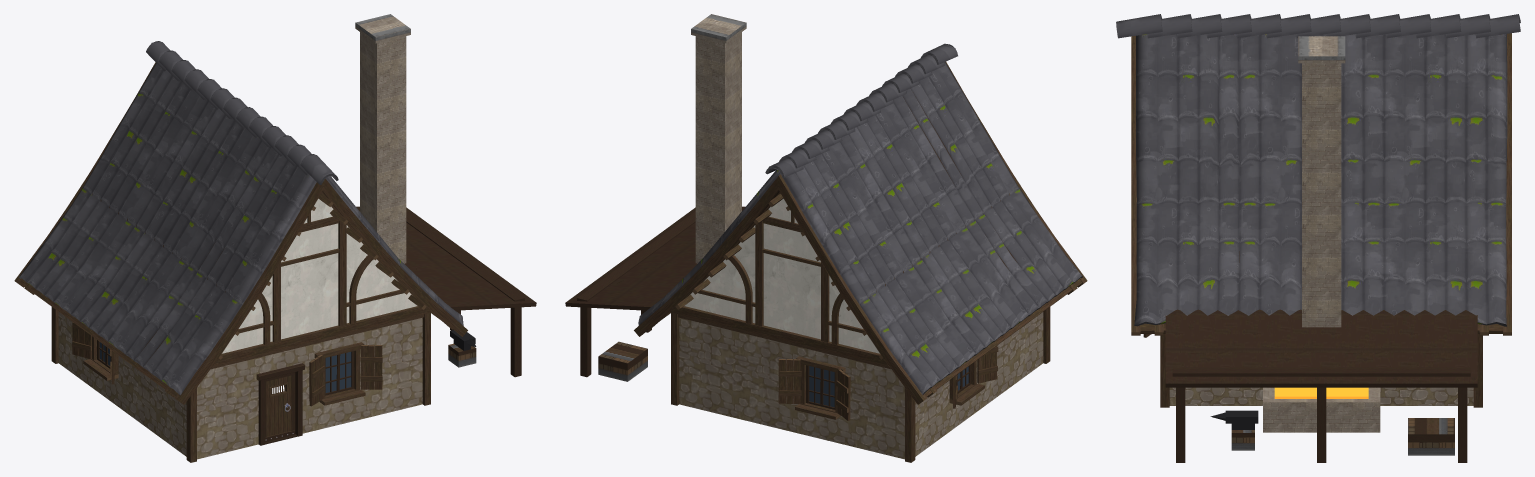
The model's file is smithy.glb.
The picture shows the model from 3 angles, left to right: view 1: azimuth 30°, elevation 25°; view 2: azimuth 150°, elevation 25°; view 3: azimuth 270°, elevation 25°; orthographic projection. The views are drawn at different scales.
Visible parts, largest first — view 1: Roof_RoundTiles_8x8.029, Roof_Front_Brick8.030, Chimney.040, LeanTo.036, Wall_UnevenBrick_Straight.001, Wall_UnevenBrick_Straight.008, Wall_UnevenBrick_Window_Wide_Flat.005, Wall_UnevenBrick_Door_Flat.002, Window_Wide_Flat1.006, Door_8_Flat.004, Wall_UnevenBrick_Straight.019, WindowShutters_Wide_Flat_Open.007 (+11 smaller); view 2: Roof_RoundTiles_8x8.029, Roof_Front_Brick8.031, Chimney.040, Wall_UnevenBrick_Straight.009, LeanTo.036, Wall_UnevenBrick_Straight.014, Wall_UnevenBrick_Straight.010, Wall_UnevenBrick_Window_Wide_Flat.011, Window_Wide_Flat1.012, Wall_UnevenBrick_Straight.020, WindowShutters_Wide_Flat_Open.013, Trough.046 (+10 smaller); view 3: Roof_RoundTiles_8x8.029, LeanTo.036, Chimney.040, Hearth.037, Beam.035, Trough.046, ChimneyCap.041, Wall_UnevenBrick_Straight.021, Wall_UnevenBrick_Straight.024, Coals.038, Beam.032, Beam.033 (+5 smaller).
Boxes of the visible parts, x1,y1,x2,y2 form: Roof_RoundTiles_8x8.029: (14, 41, 467, 404); Roof_Front_Brick8.030: (213, 193, 431, 365); Chimney.040: (360, 32, 406, 263); LeanTo.036: (356, 206, 536, 310); Wall_UnevenBrick_Straight.001: (197, 356, 251, 459); Wall_UnevenBrick_Straight.008: (367, 314, 424, 417); Wall_UnevenBrick_Window_Wide_Flat.005: (309, 328, 368, 431); Wall_UnevenBrick_Door_Flat.002: (250, 342, 310, 446); Window_Wide_Flat1.006: (314, 342, 365, 405); Door_8_Flat.004: (265, 372, 295, 442); Wall_UnevenBrick_Straight.019: (124, 338, 157, 435); WindowShutters_Wide_Flat_Open.007: (309, 345, 382, 406); Roof_RoundTiles_8x8.029: (634, 43, 1087, 404); Roof_Front_Brick8.031: (670, 193, 888, 365); Chimney.040: (695, 32, 741, 263); Wall_UnevenBrick_Straight.009: (677, 314, 734, 417); LeanTo.036: (565, 206, 745, 310); Wall_UnevenBrick_Straight.014: (850, 356, 904, 459); Wall_UnevenBrick_Straight.010: (733, 328, 792, 431); Wall_UnevenBrick_Window_Wide_Flat.011: (791, 342, 851, 446); Window_Wide_Flat1.012: (795, 356, 845, 419); Wall_UnevenBrick_Straight.020: (1011, 312, 1043, 386); WindowShutters_Wide_Flat_Open.013: (778, 358, 850, 420); Trough.046: (598, 341, 647, 381); Roof_RoundTiles_8x8.029: (1116, 14, 1520, 335); LeanTo.036: (1165, 309, 1477, 387); Chimney.040: (1302, 63, 1341, 327); Hearth.037: (1263, 387, 1380, 432); Beam.035: (1172, 367, 1470, 376); Trough.046: (1408, 418, 1454, 455); ChimneyCap.041: (1298, 36, 1345, 63); Wall_UnevenBrick_Straight.021: (1169, 387, 1243, 405); Wall_UnevenBrick_Straight.024: (1400, 387, 1473, 405); Coals.038: (1274, 387, 1368, 398); Beam.032: (1176, 387, 1185, 462); Beam.033: (1317, 387, 1326, 462).
Bounding box in the file's own units: 12.78 × 10.54 × 10.33.
10 materials, 7 textured.
